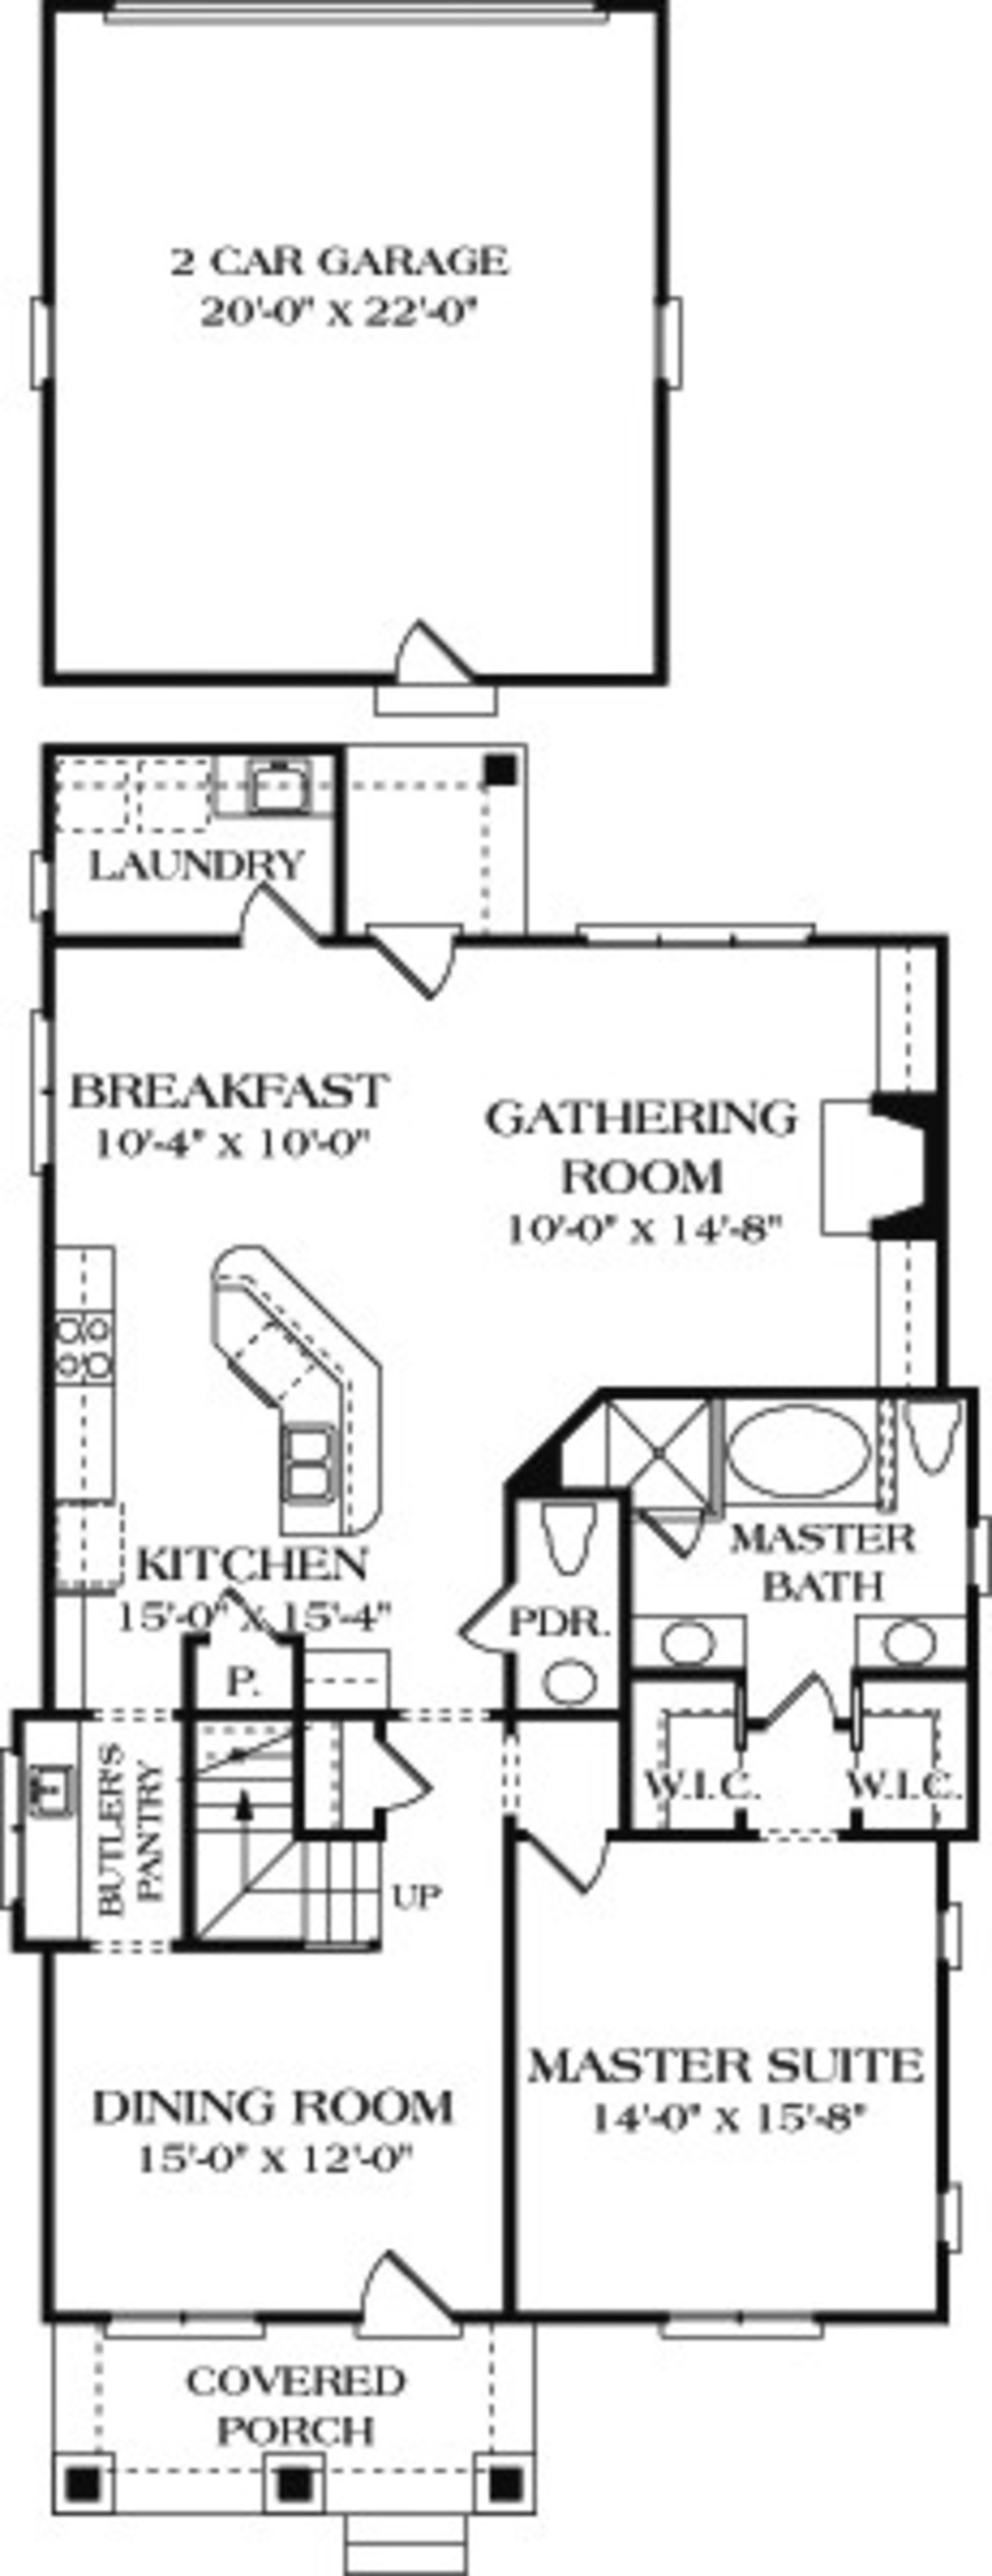door: (353, 2242, 489, 2359), (486, 1805, 622, 1911), (365, 907, 489, 1007), (376, 608, 481, 724), (223, 853, 312, 966), (736, 1681, 849, 1738), (381, 1738, 445, 1830), (445, 1575, 514, 1653)
kitchen_bar: (159, 1201, 406, 1592)
large_sink: (526, 1487, 616, 1600), (877, 1398, 966, 1506)
small_sink: (849, 1592, 992, 1681), (639, 1595, 747, 1681), (514, 1648, 619, 1717)
stairs: (146, 1672, 376, 1971)
tub: (713, 1406, 885, 1495)
window: (575, 913, 833, 974), (90, 2277, 284, 2354), (619, 2290, 869, 2346), (13, 1007, 66, 1181), (10, 835, 82, 946), (913, 1879, 966, 1983), (925, 2173, 974, 2274)
